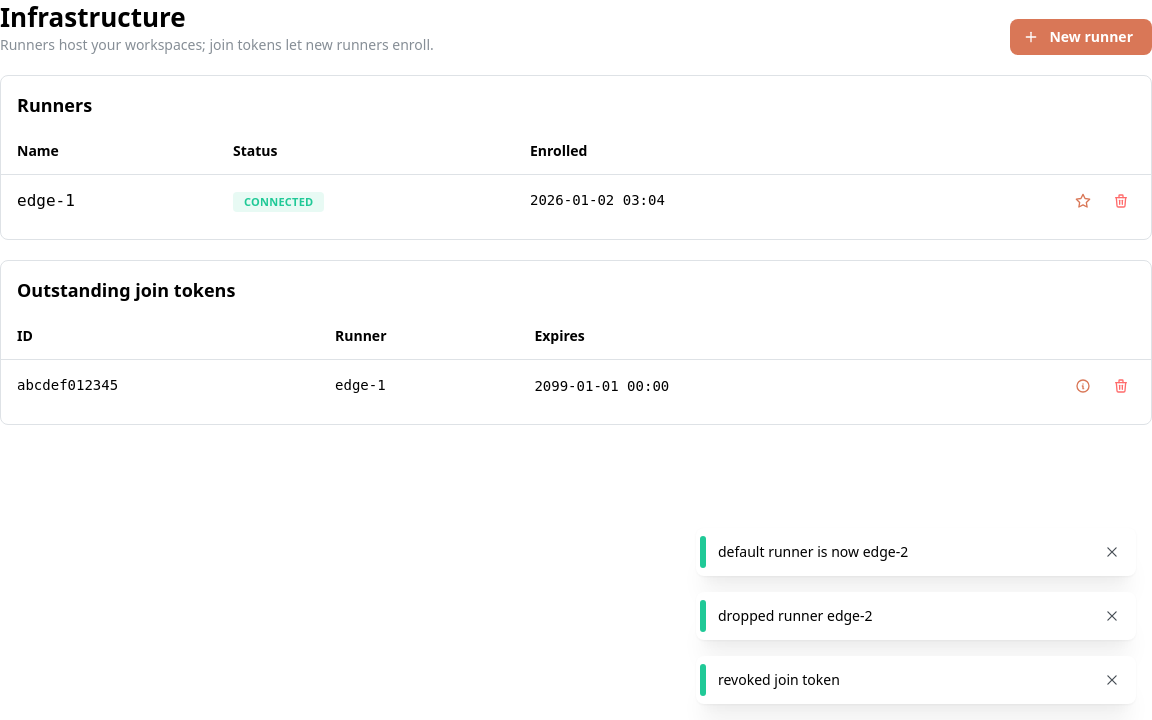
Test: InfrastructureView › re-shows setup instructions for a token with a placeholder and notice
The width and height of the screenshot is (1152, 720).
What coordinates should you click on to do the following:
click the button named "Setup instructions for edge-1"
I would click on:
 (1083, 386)
Its box is top-left (1069, 372), bottom-right (1097, 400).
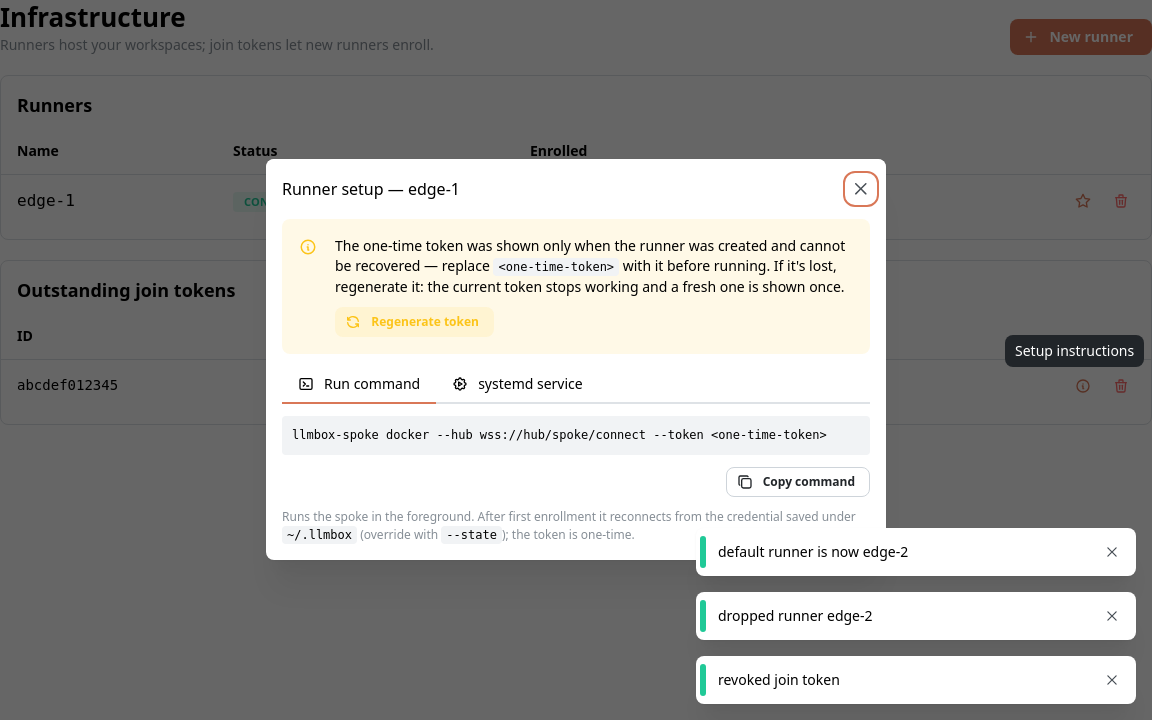
Expected: the text "--token <one-time-token>" is shown, top-left (292, 429), bottom-right (827, 443)
Expected: the text "shown only when the runner was created" is shown, top-left (335, 236), bottom-right (845, 276)
# The systemd tab is offered here too.
What coordinates should you click on to do the following:
click the tab "systemd service"
I would click on:
 (517, 386)
Its box is top-left (436, 367), bottom-right (599, 405).
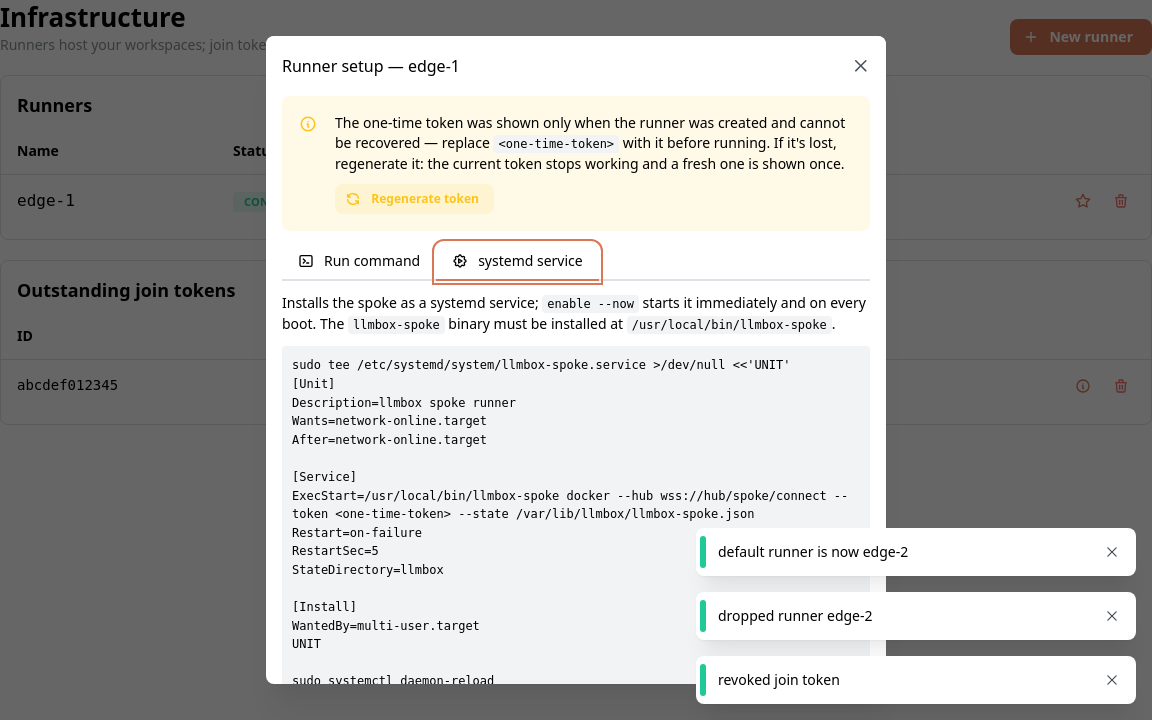
Expected: the text "sudo systemctl enable --now llmbox-spoke.service" is shown, top-left (292, 358), bottom-right (848, 684)
